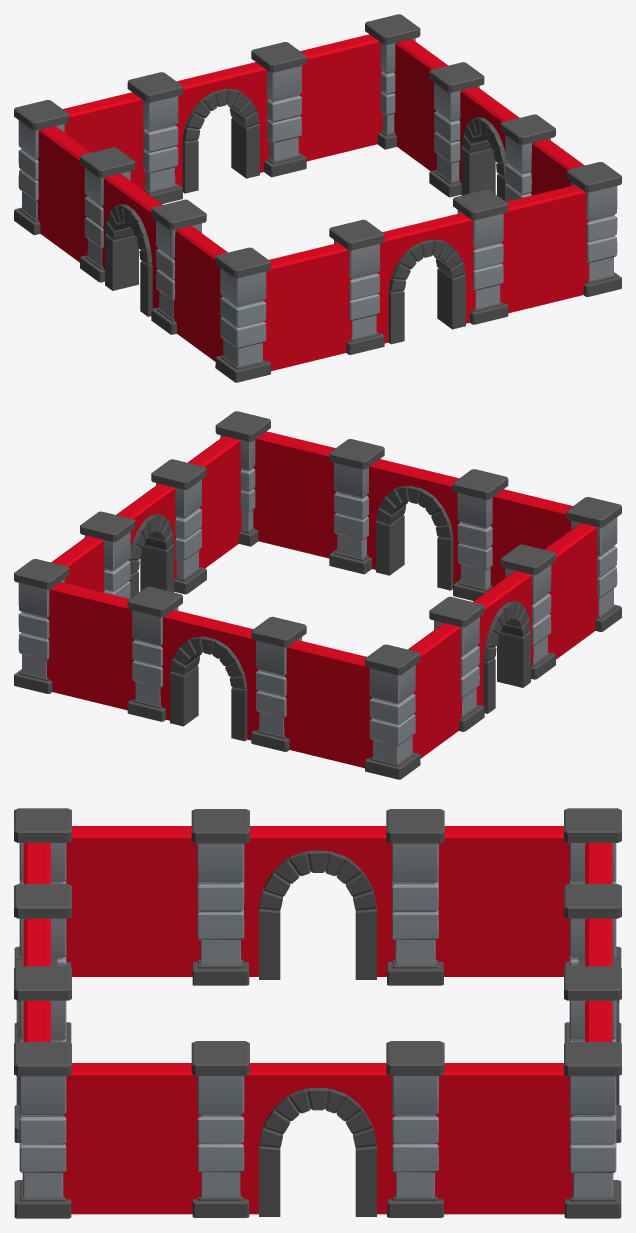
The model's file is TrapRoom.fbx.
The picture shows the model from 3 angles, top to bottom: view 1: azimuth 30°, elevation 25°; view 2: azimuth 150°, elevation 25°; view 3: azimuth 270°, elevation 25°; orthographic projection. The views are drawn at different scales.
Parts seen in each view (by area): view 1: Room; view 2: Room; view 3: Room.
Part boxes in pixels (<box>): Room: <box>14,14,621,382</box>; Room: <box>14,411,621,779</box>; Room: <box>14,808,621,1218</box>.
Size of the model in its own units: 1568 by 435 by 1562.
